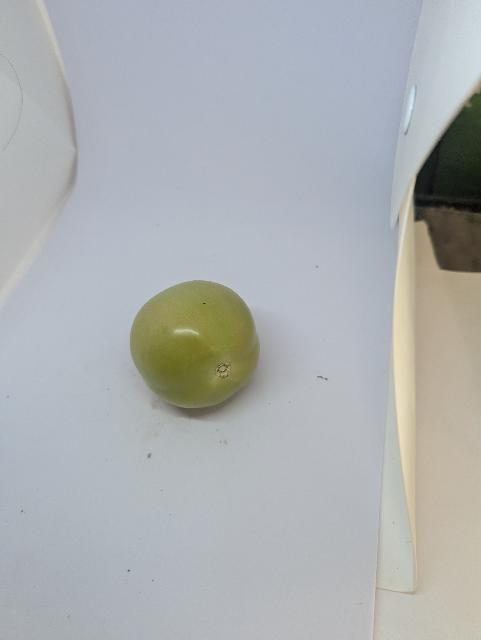green: (129, 279, 261, 410)
